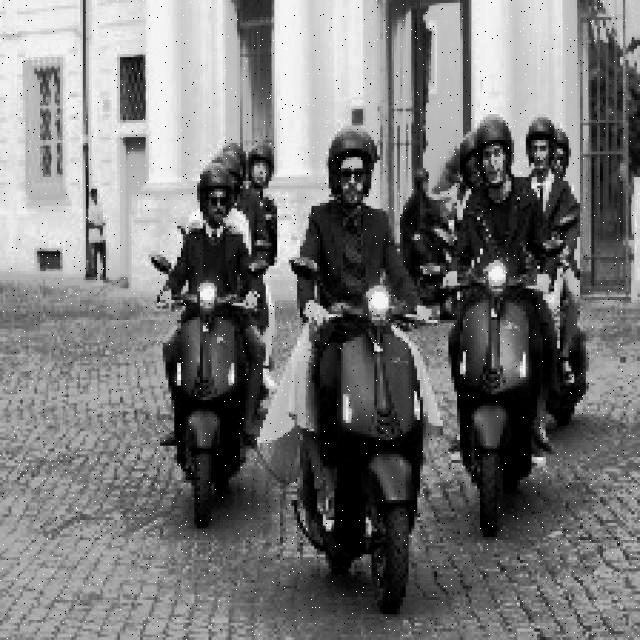Bike: (312, 275, 429, 609), (444, 264, 556, 528), (173, 268, 256, 529)
